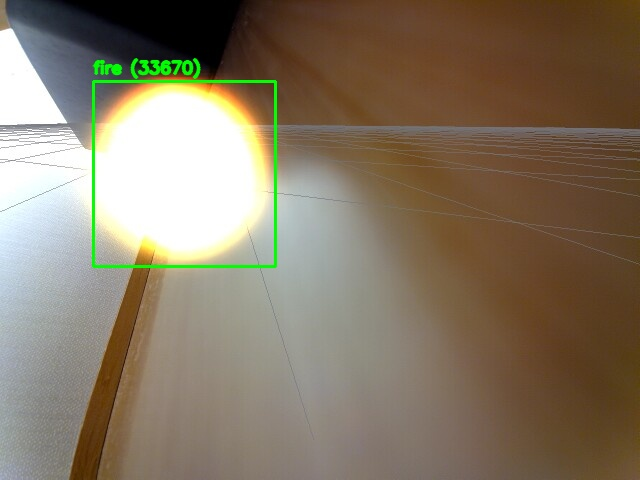fire: (93, 81, 275, 266)
